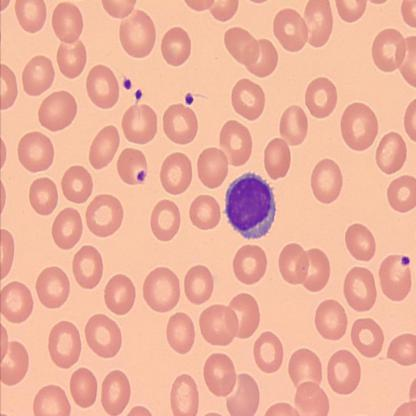Lymphocyte: (223, 170, 277, 240)
